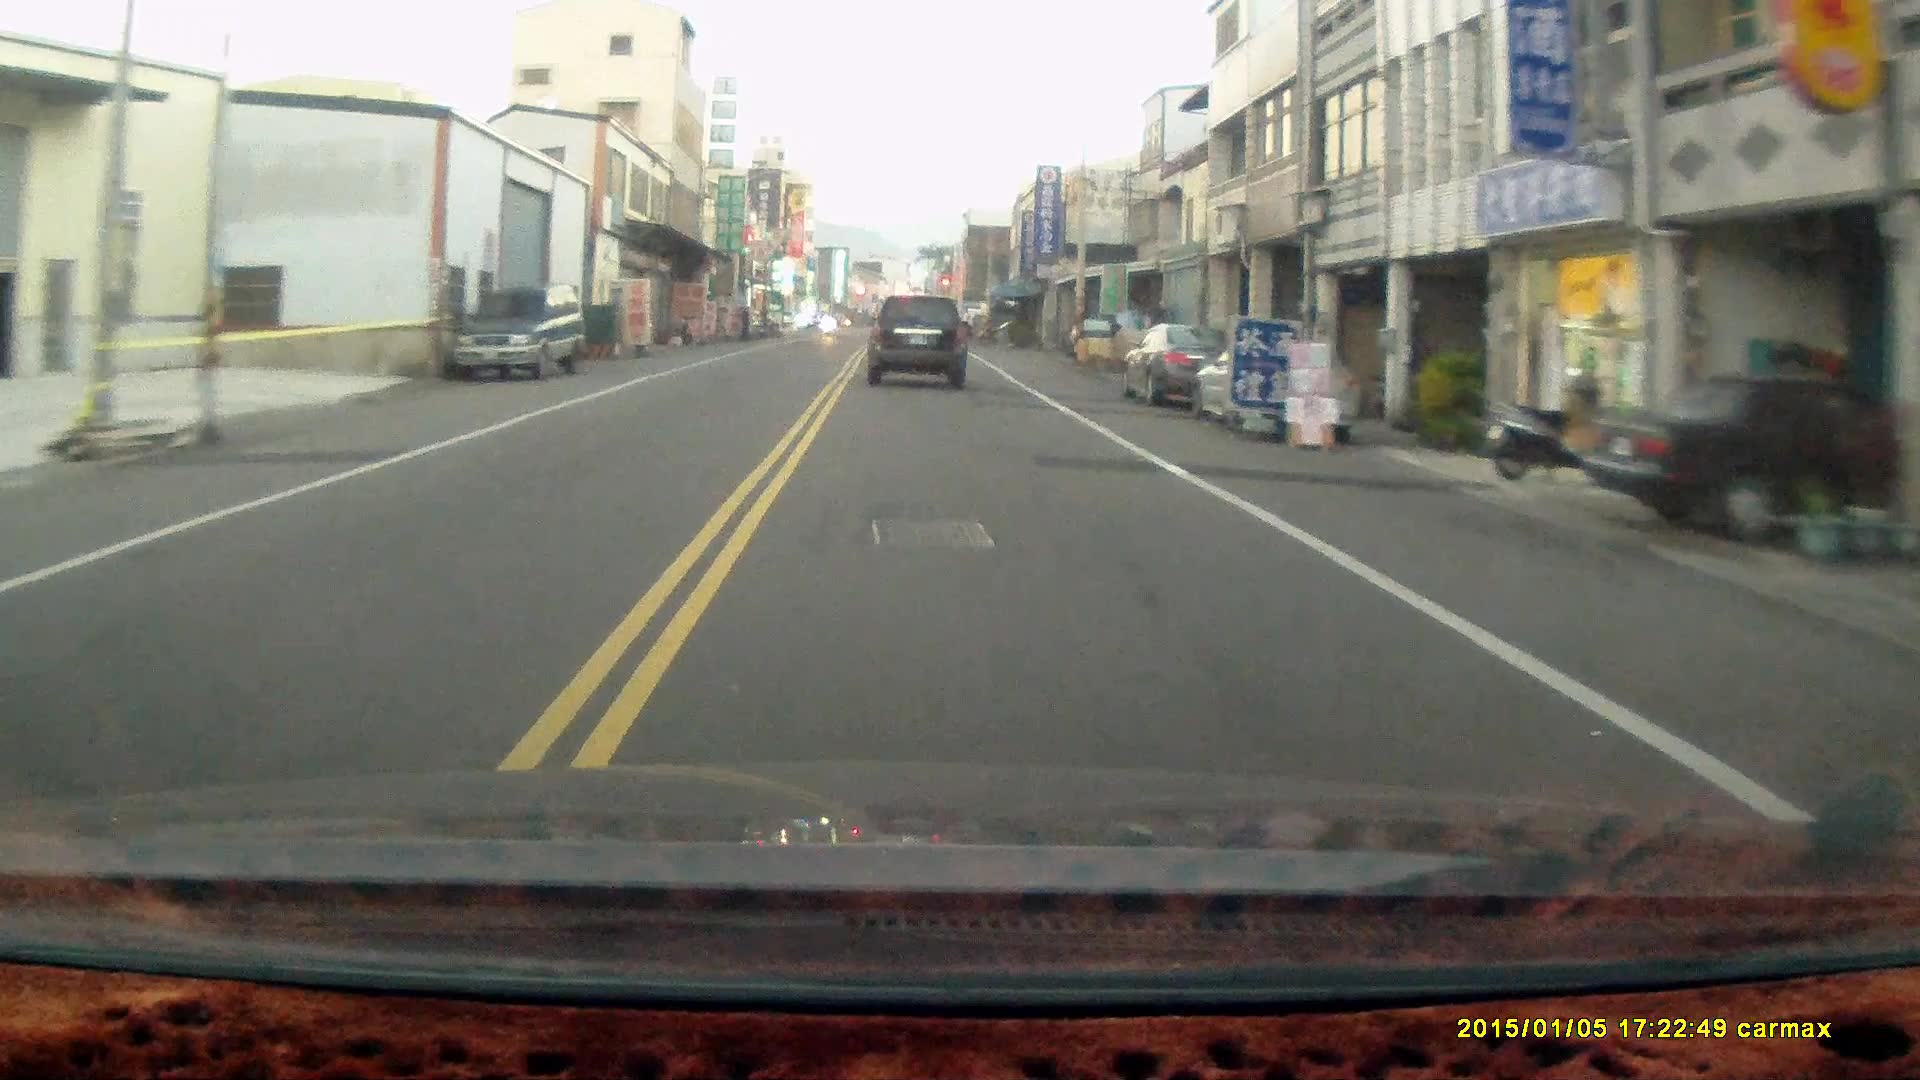vehicle: (1581, 371, 1920, 546), (1192, 338, 1367, 440), (450, 281, 585, 382), (866, 295, 971, 392), (1122, 320, 1241, 402)
